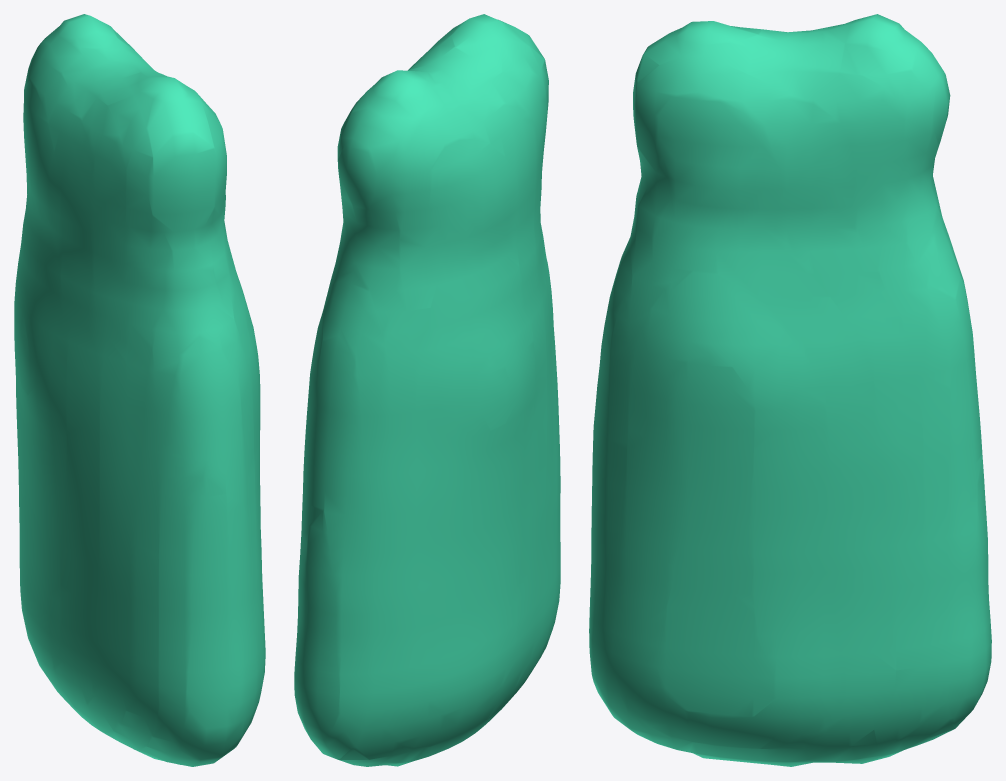
The picture shows the model from 3 angles, left to right: view 1: azimuth 30°, elevation 25°; view 2: azimuth 150°, elevation 25°; view 3: azimuth 270°, elevation 25°; orthographic projection. The views are drawn at different scales.
Parts seen in each view (by area): view 1: Liquid_Domain; view 2: Liquid_Domain; view 3: Liquid_Domain.
Boxes of the visible parts, bbox=[...] form: Liquid_Domain: bbox=[14, 14, 265, 766]; Liquid_Domain: bbox=[294, 14, 560, 766]; Liquid_Domain: bbox=[589, 14, 991, 766].
Size of the model in its own units: 1.36 by 4.93 by 2.47.
